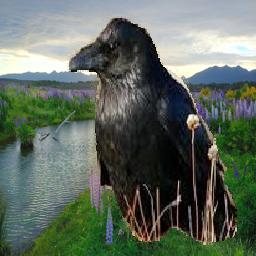Crow: (67, 15, 237, 250)
